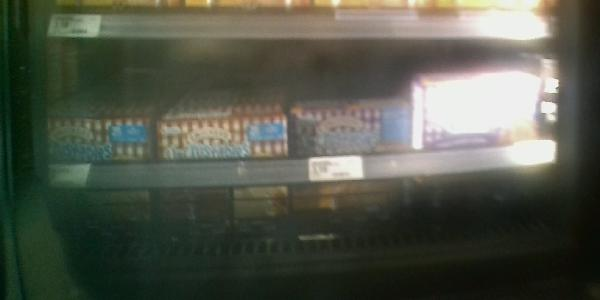icecream: (413, 66, 546, 153), (37, 111, 156, 171), (285, 102, 417, 156), (155, 113, 289, 165)
